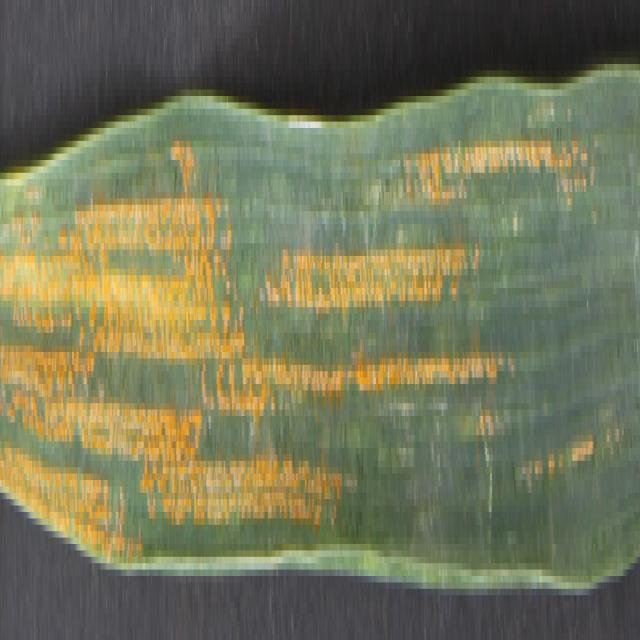leaf rust: (1, 83, 595, 602)
